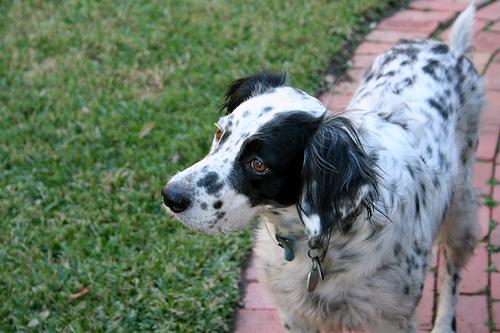dog-english_setter: (160, 69, 367, 234)
